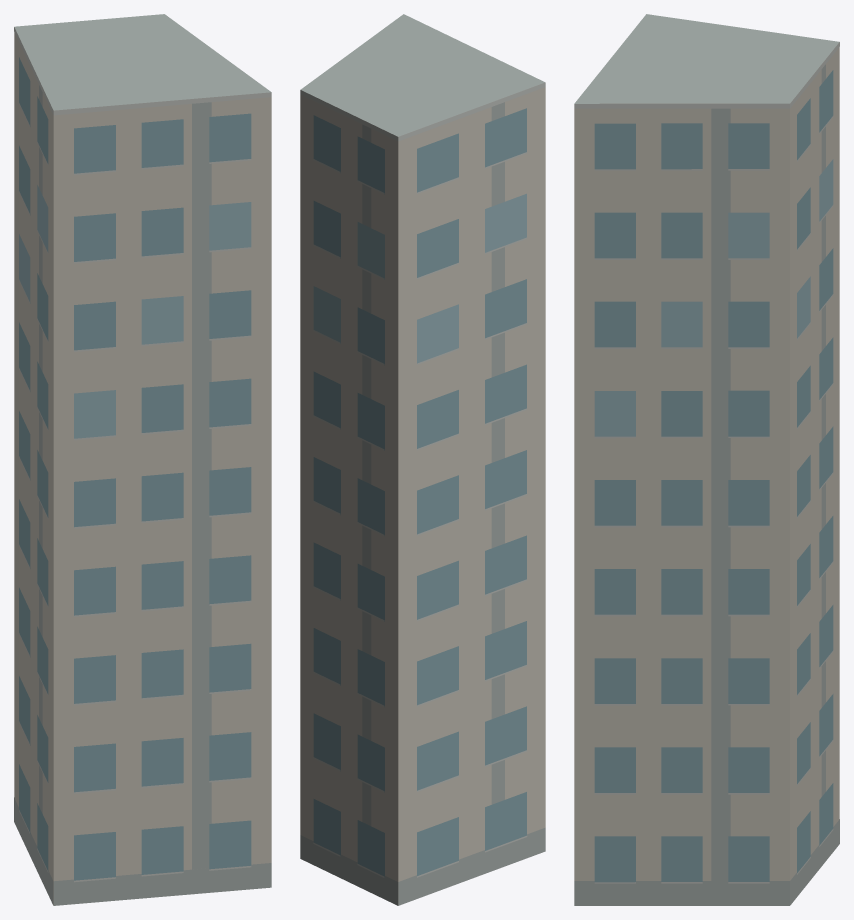
Rendered from residential-f4e4e258-4b9b-46b8-b19f-894c0c6ebedd.glb.
3 views of the same model, side by side, from view 1: azimuth 30°, elevation 25°; view 2: azimuth 150°, elevation 25°; view 3: azimuth 270°, elevation 25° (orthographic). The views are drawn at different scales.
Parts seen in each view (by area): view 1: residential-f4e4e258-4b9b-46b8-b19f-894c0c6ebedd.tmp; view 2: residential-f4e4e258-4b9b-46b8-b19f-894c0c6ebedd.tmp; view 3: residential-f4e4e258-4b9b-46b8-b19f-894c0c6ebedd.tmp.
Boxes of the visible parts, x1,y1,x2,y2 form: residential-f4e4e258-4b9b-46b8-b19f-894c0c6ebedd.tmp: (14,14,271,905); residential-f4e4e258-4b9b-46b8-b19f-894c0c6ebedd.tmp: (300,14,545,905); residential-f4e4e258-4b9b-46b8-b19f-894c0c6ebedd.tmp: (574,14,839,905).
Size of the model in its own units: 9.62 by 40 by 12.01.
